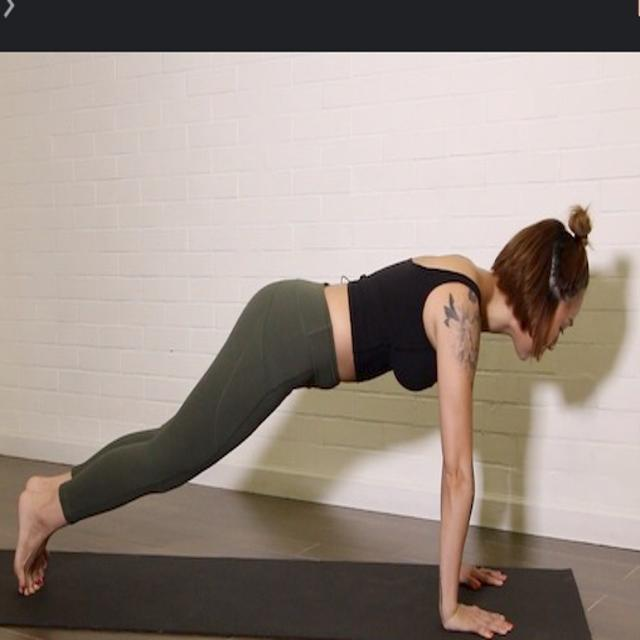Plank_Pose: (14, 201, 596, 640)
